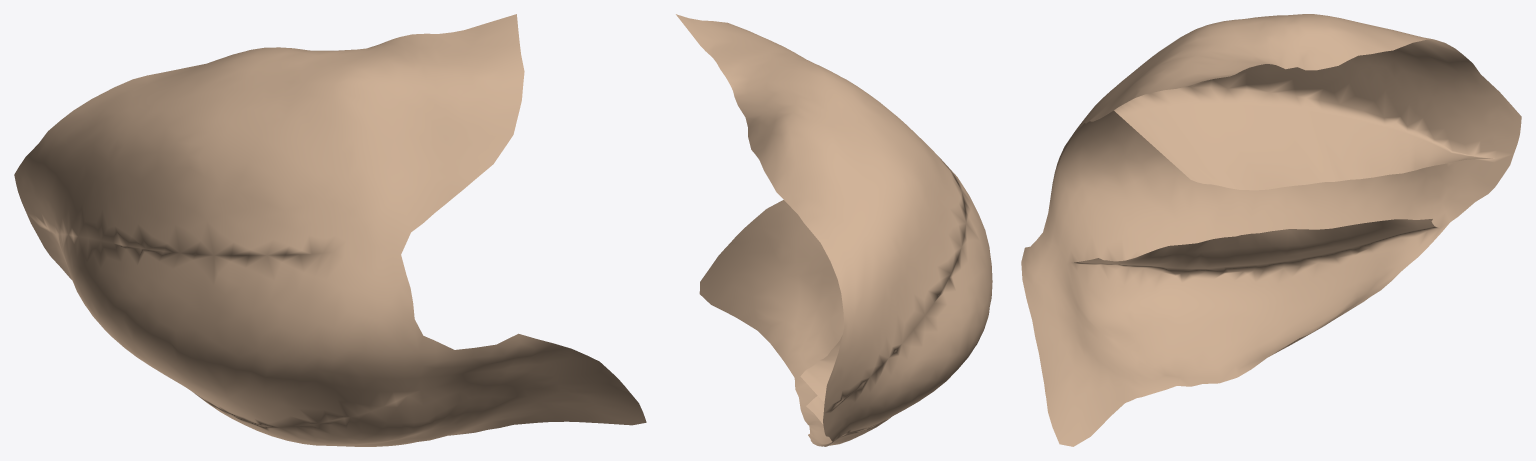
The picture shows the model from 3 angles, left to right: view 1: azimuth 30°, elevation 25°; view 2: azimuth 150°, elevation 25°; view 3: azimuth 270°, elevation 25°; orthographic projection. The views are drawn at different scales.
Visible parts, largest first — view 1: 右侧三角肌筋膜; view 2: 右侧三角肌筋膜; view 3: 右侧三角肌筋膜.
Part boxes in pixels (x1,y1,x2,y2): 右侧三角肌筋膜: (14, 14, 646, 446); 右侧三角肌筋膜: (676, 14, 992, 446); 右侧三角肌筋膜: (1021, 14, 1521, 446).
Size of the model in its own units: 0.2118 by 0.1952 by 0.2393.
